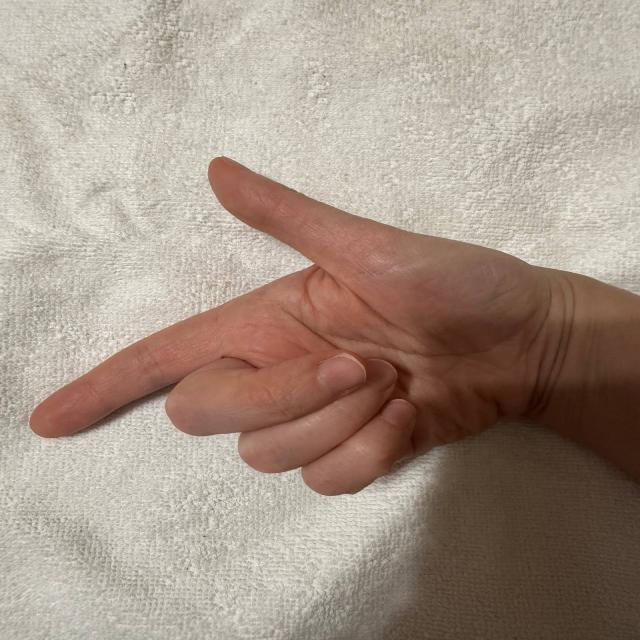g: (35, 132, 529, 468)
